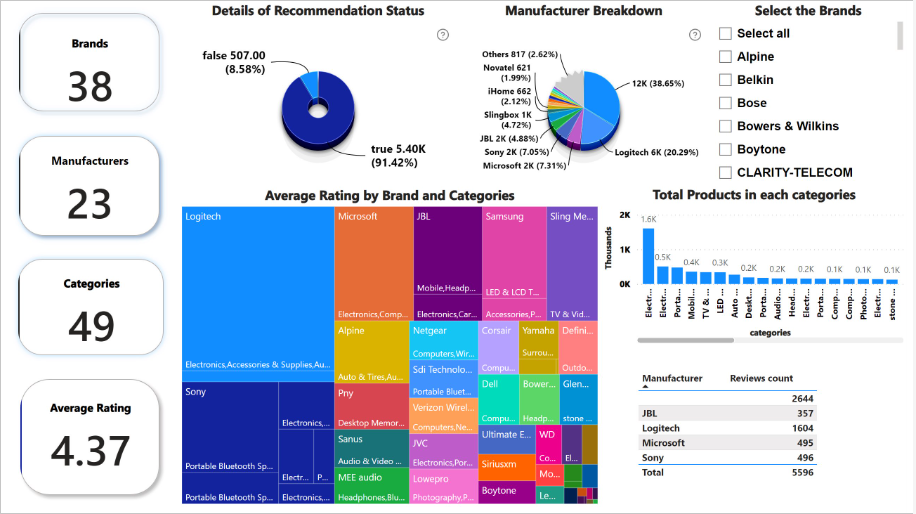

The page's visual inventory and layout, read from the dashboard file:
{"tool":"powerbi","page":{"name":"Page 1","canvas":[1280,720],"ordinal":0},"visuals":[{"type":"slicer","title":"Select the Brands","fields":{"Values":["Dataset.brand"]},"box":[1001.3,0,279.4,262.5],"z":0},{"type":"cardVisual","fields":{"Data":["Count(Dataset.brand)"]},"box":[0,0,234.6,174.7],"z":1000},{"type":"ZoomChartsPieChartPaidE77E4ED357DC402ABA005987437CF500","title":"Details of Recommendation Status","fields":{"Values":["CountNonNull(Dataset.reviews.doRecommend)"],"Category":["Dataset.reviews.doRecommend"]},"box":[243.8,0,397.5,262.5],"z":2000},{"type":"cardVisual","fields":{"Data":["Count(Dataset.manufacturer)"]},"box":[0,174.7,234.6,176.4],"z":3000},{"type":"cardVisual","fields":{"Data":["Count(Dataset.categories)"]},"box":[0,351.1,239.5,169.9],"z":4000},{"type":"treemap","title":"Average Rating by Brand and Categories","fields":{"Group":["Dataset.brand"],"Details":["Dataset.categories"],"Values":["Sum(Dataset.reviews.rating)"]},"box":[243.8,262.5,601.9,457.5],"z":6000},{"type":"ZoomChartsDrillDownPieProC062D62DA5CE45ECB95B7B1D0E5DA558","title":"Manufacturer Breakdown","fields":{"Category":["Dataset.manufacturer"],"Values":["Sum(Dataset.reviews.rating)"]},"box":[641.3,0,360,262.5],"z":6002},{"type":"cardVisual","fields":{"Data":["Avg(Dataset.reviews.rating)"]},"box":[1.6,521,233,199],"z":6003},{"type":"clusteredColumnChart","title":"Total Products in each categories","fields":{"Category":["Dataset.categories"],"Y":["CountNonNull(Dataset.categories)"]},"box":[846.2,262.1,435.2,229.8],"z":6004},{"type":"tableEx","fields":{"Values":["Dataset.manufacturer","CountNonNull(Dataset.reviews.rating)"]},"box":[893.1,521,341.4,189.3],"z":6005}]}

Visuals, with their boxes in screenshot pixels (x1, y1, x2, y2), scaled from the page's 1280x720 canvas onto the 916x514 screenshot:
"Select the Brands" slicer: <region>717, 0, 915, 187</region>
cardVisual - Count(Dataset.brand): <region>0, 0, 168, 125</region>
"Details of Recommendation Status" ZoomChartsPieChartPaidE77E4ED357DC402ABA005987437CF500: <region>174, 0, 459, 187</region>
cardVisual - Count(Dataset.manufacturer): <region>0, 125, 168, 251</region>
cardVisual - Count(Dataset.categories): <region>0, 251, 171, 372</region>
"Average Rating by Brand and Categories" treemap: <region>174, 187, 605, 513</region>
"Manufacturer Breakdown" ZoomChartsDrillDownPieProC062D62DA5CE45ECB95B7B1D0E5DA558: <region>459, 0, 717, 187</region>
cardVisual - Avg(Dataset.reviews.rating): <region>1, 372, 168, 513</region>
"Total Products in each categories" clusteredColumnChart: <region>606, 187, 915, 351</region>
tableEx - Dataset.manufacturer x CountNonNull(Dataset.reviews.rating): <region>639, 372, 883, 507</region>
